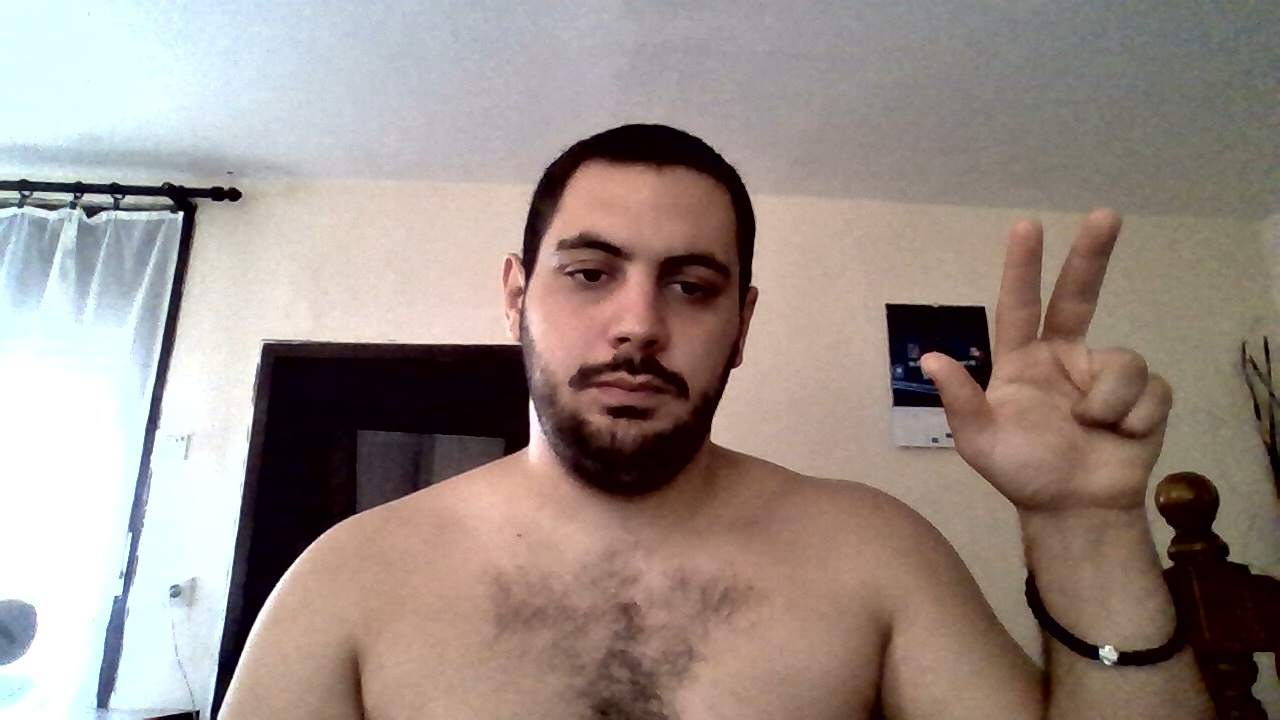serbia: (921, 204, 1177, 508)
